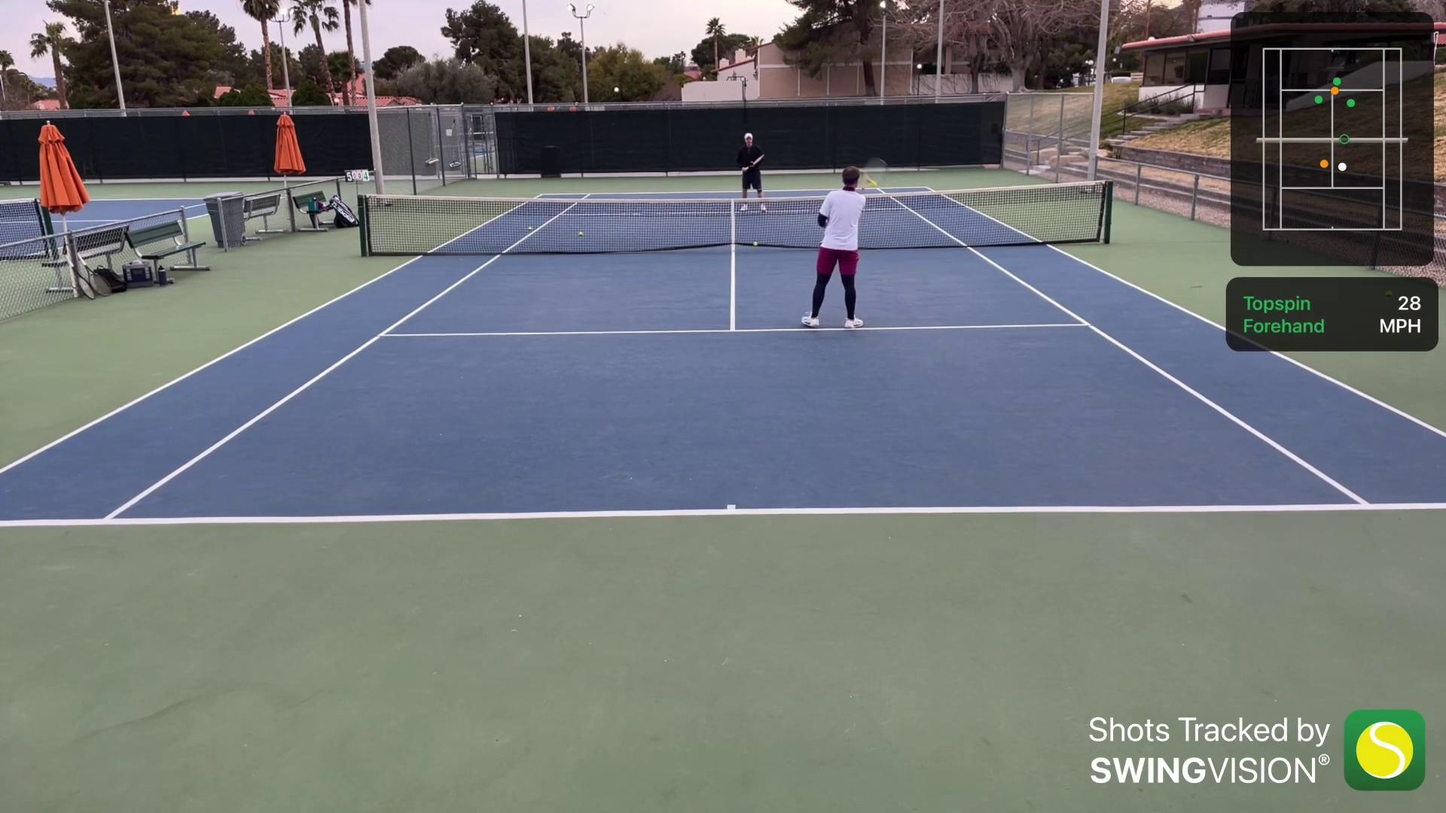ball: (868, 178, 877, 189), (750, 239, 760, 248), (526, 224, 535, 232), (576, 230, 586, 237)
